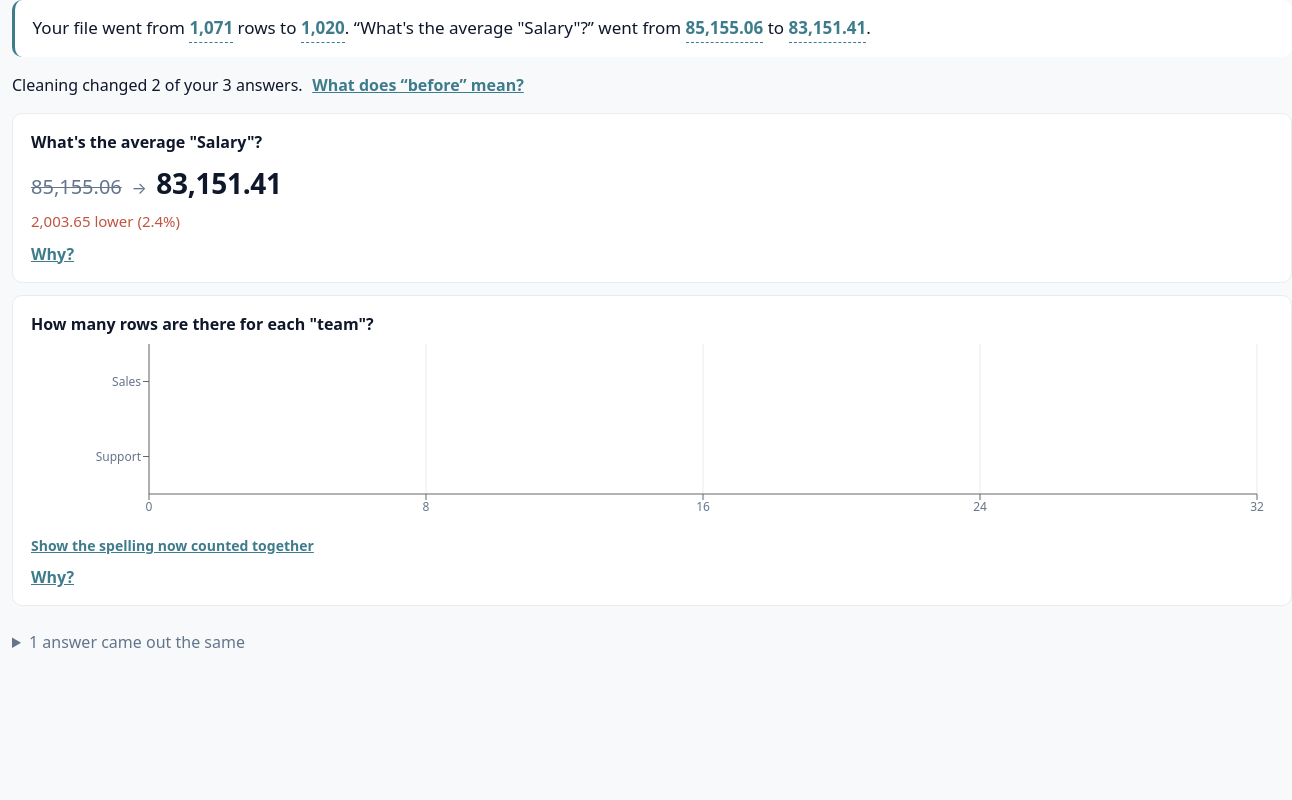
it: ComparePage › names the steps behind a change and points at them
Expected: the heading "What's the average \"Salary\"?" is shown, x1=31 y1=131 x2=262 y2=153
Click the button "Why?" below "2,003.65 lower (2.4%)". click: x=52, y=254
box: x1=31 y1=242 x2=74 y2=266
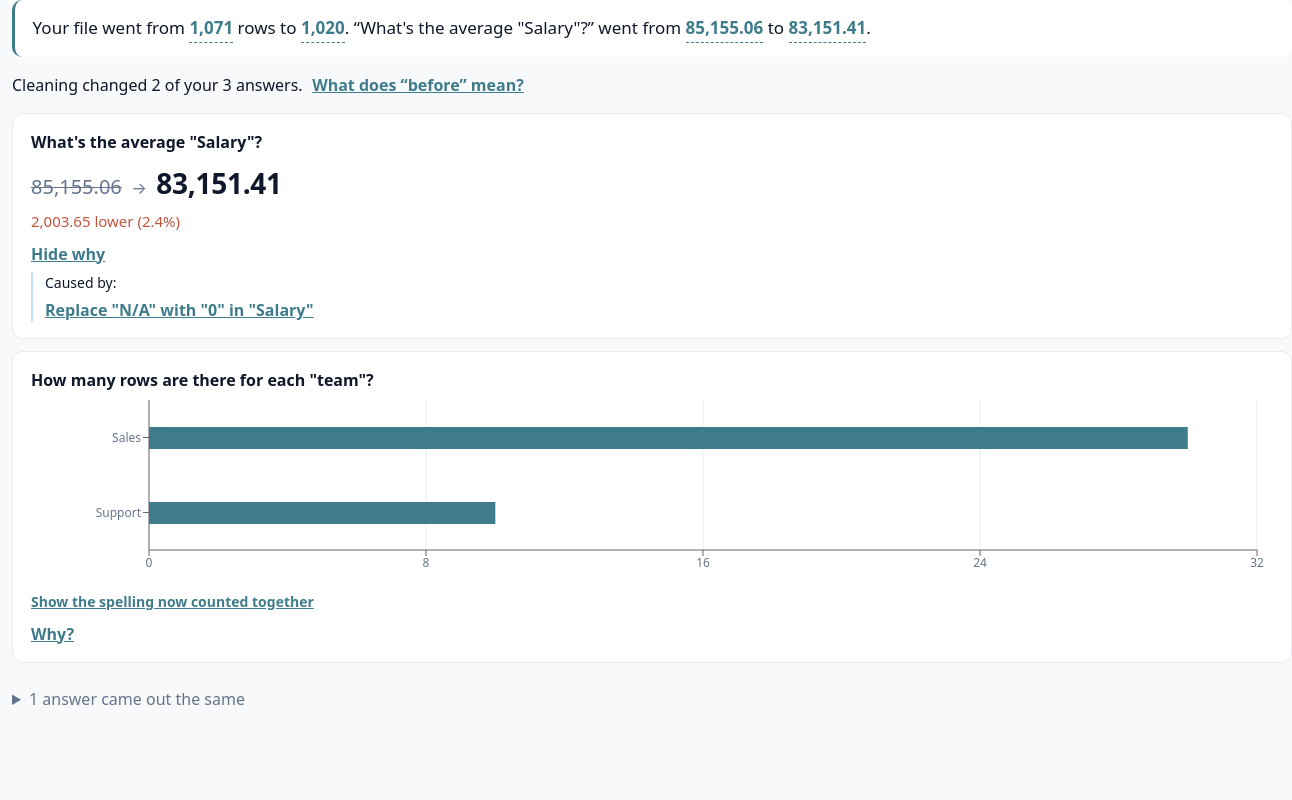
Expected: the text "Caused by:" is shown, x1=45 y1=273 x2=116 y2=292
Expected: the button "Replace \"N/A\" with \"0\" in \"Salary\"" is shown, x1=45 y1=298 x2=314 y2=322
